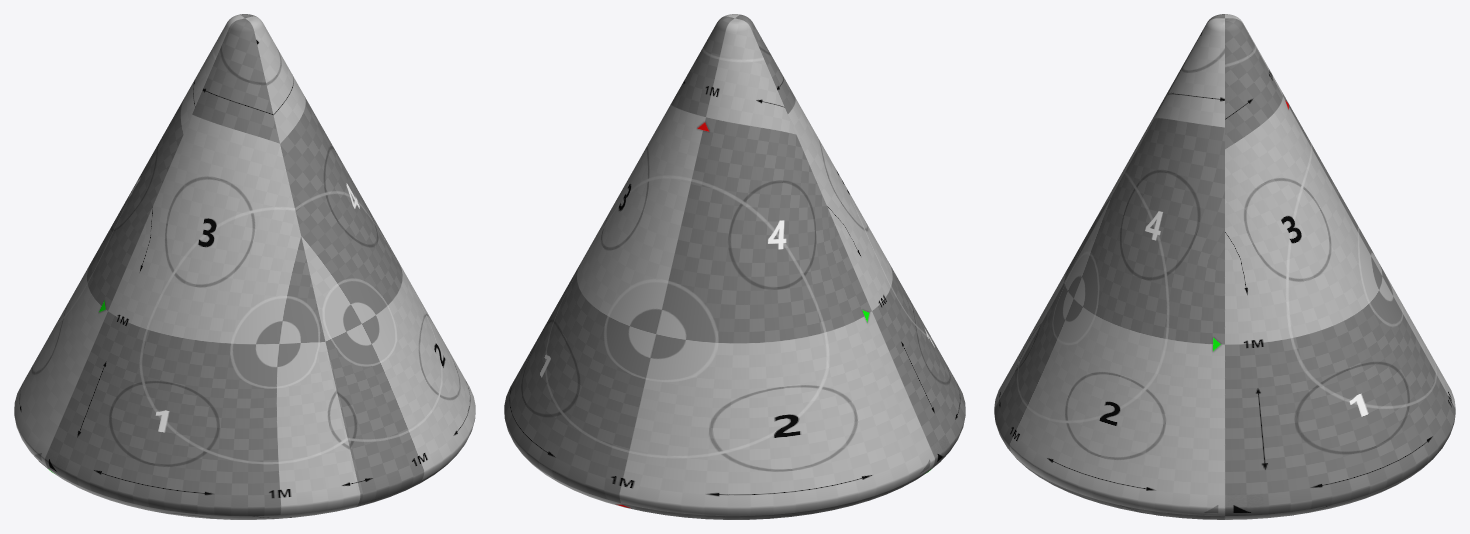
File: BeveledCone.fbx
3 views of the same model, side by side, from view 1: azimuth 30°, elevation 25°; view 2: azimuth 150°, elevation 25°; view 3: azimuth 270°, elevation 25° (orthographic).
Parts seen in each view (by area): view 1: BeveledCone_1m; view 2: BeveledCone_1m; view 3: BeveledCone_1m.
Boxes of the visible parts, x1,y1,x2,y2 form: BeveledCone_1m: (14, 14, 475, 519); BeveledCone_1m: (504, 14, 965, 519); BeveledCone_1m: (994, 14, 1455, 519).
Bounding box in the file's own units: 0.9581 × 0.9375 × 0.9581.
Materials: 1 (1 with a texture image).
